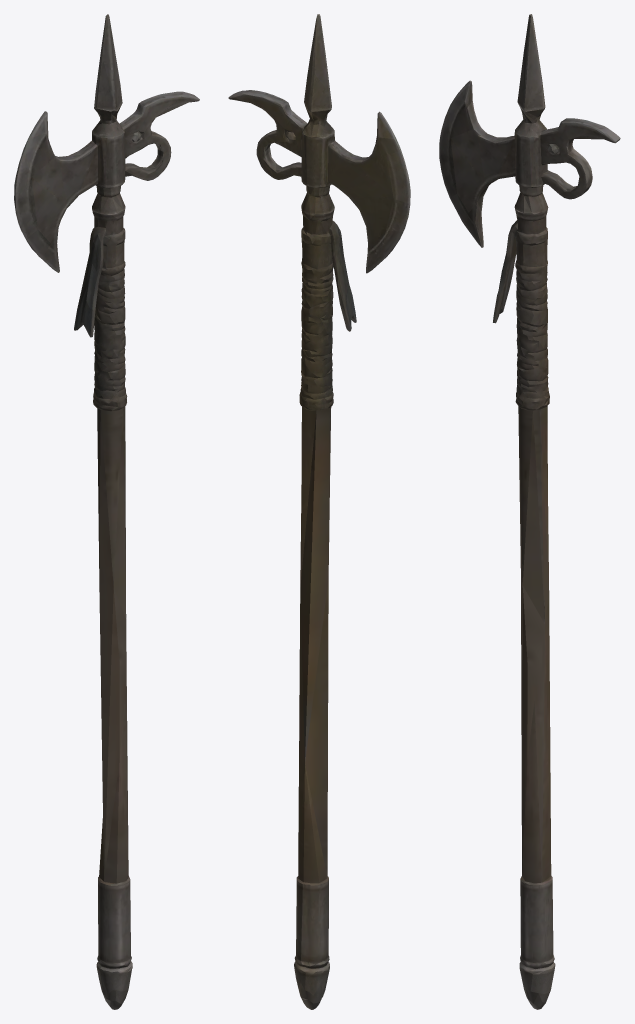
File: halberd-CH2SoN7f.glb
The picture shows the model from 3 angles, left to right: view 1: azimuth 30°, elevation 25°; view 2: azimuth 150°, elevation 25°; view 3: azimuth 330°, elevation 25°; orthographic projection.
Visible parts, largest first — view 1: halberd; view 2: halberd; view 3: halberd.
Boxes of the visible parts, left/top/right/bottom form: halberd: left=14, top=14, right=199, bottom=1009; halberd: left=228, top=14, right=410, bottom=1009; halberd: left=439, top=14, right=620, bottom=1009.
Bounding box in the file's own units: 0.1906 × 1 × 0.0358.
Materials: 1 (1 with a texture image).
